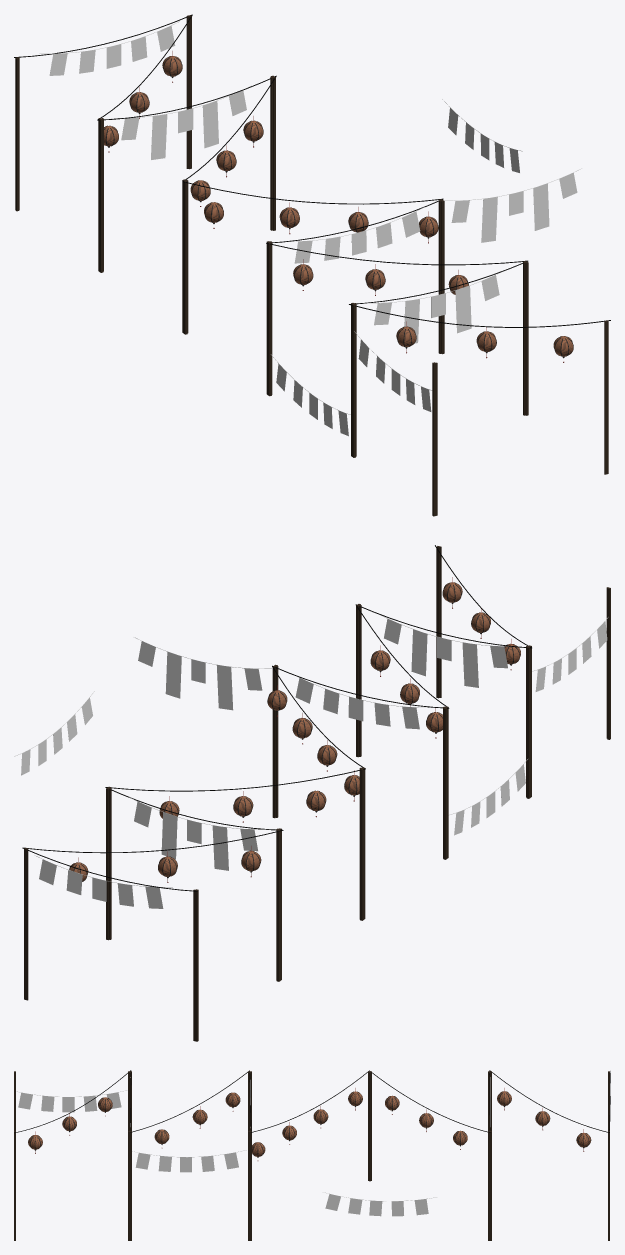
Rendered from Posts and Posters.fbx.
3 renders of one model, top to bottom at view 1: azimuth 30°, elevation 25°; view 2: azimuth 150°, elevation 25°; view 3: azimuth 270°, elevation 25°, orthographic. The views are drawn at different scales.
Parts seen in each view (by area): view 1: Plane.097; view 2: Plane.097; view 3: Plane.097.
Boxes of the visible parts, bbox=[...] form: Plane.097: bbox=[14, 14, 610, 516]; Plane.097: bbox=[14, 545, 610, 1041]; Plane.097: bbox=[14, 1070, 610, 1240].
Size of the model in its own units: 655 by 301 by 1492.
